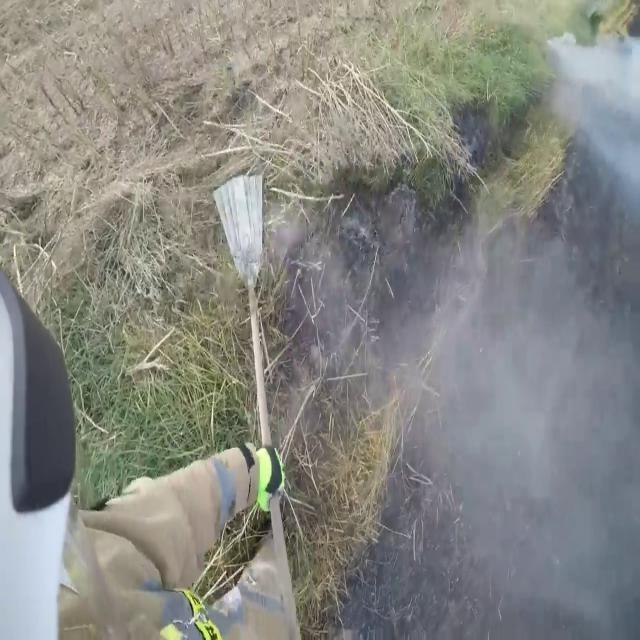Smoke: (361, 1, 640, 640)
